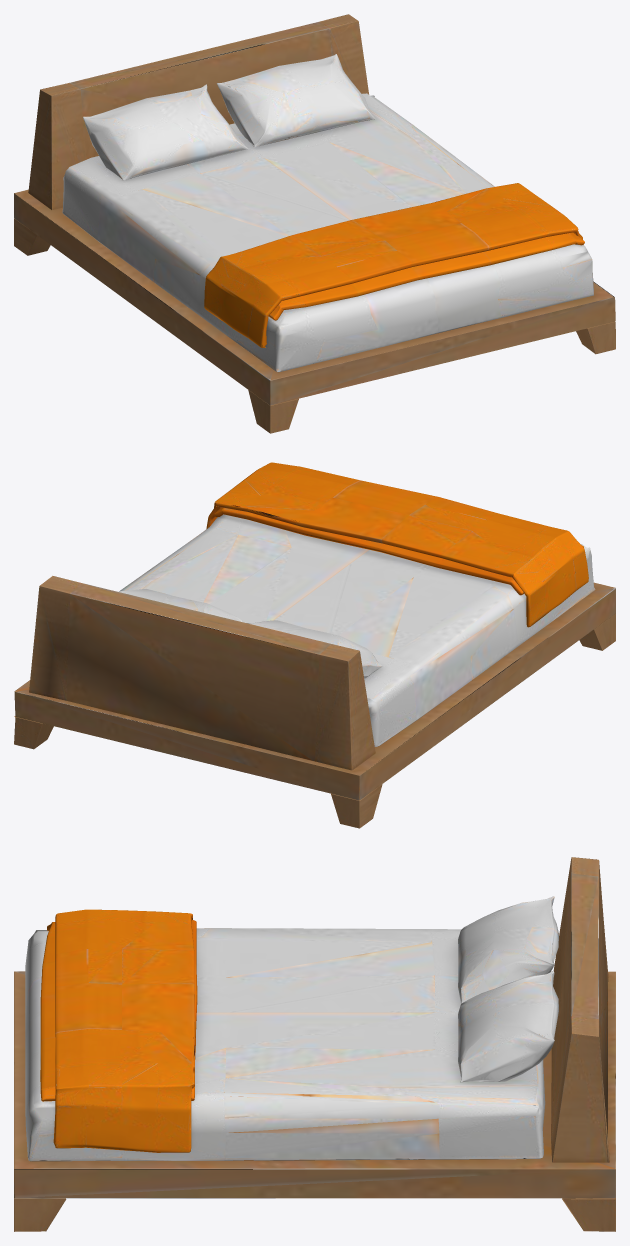
File: bed.glb
3 renders of one model, top to bottom at view 1: azimuth 30°, elevation 25°; view 2: azimuth 150°, elevation 25°; view 3: azimuth 270°, elevation 25°, orthographic. The views are drawn at different scales.
Parts seen in each view (by area): view 1: geometry_0; view 2: geometry_0; view 3: geometry_0.
Boxes of the visible parts, x1=… form: geometry_0: x1=14, y1=14, x2=615, y2=433; geometry_0: x1=14, y1=462, x2=615, y2=828; geometry_0: x1=14, y1=857, x2=615, y2=1231.
Bounding box in the file's own units: 0.7451 × 0.3286 × 0.9565.
1 material, 1 textured.
